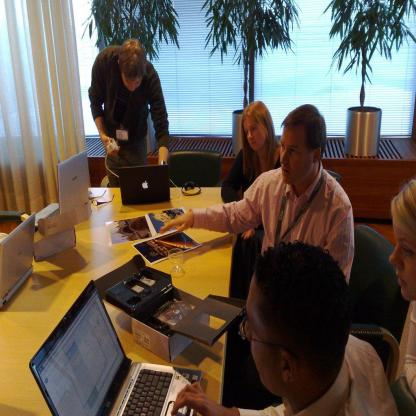board: (29, 278, 203, 416), (34, 150, 90, 227), (0, 214, 34, 310), (118, 165, 170, 207)
